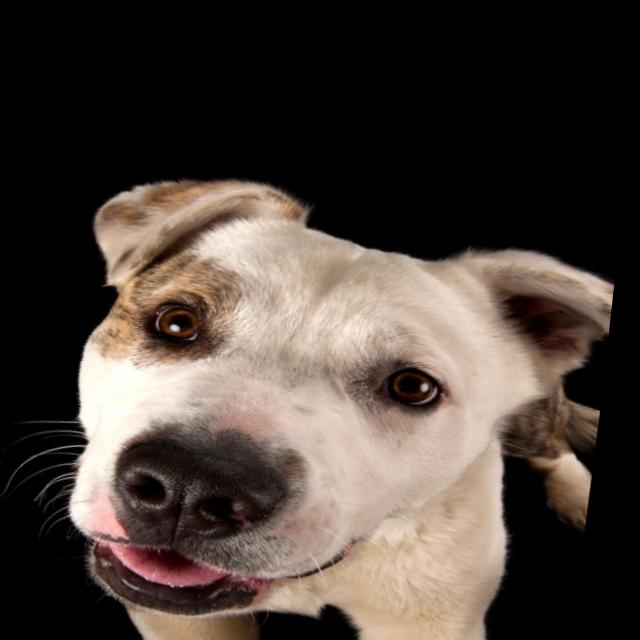Dog: (1, 140, 628, 640)
